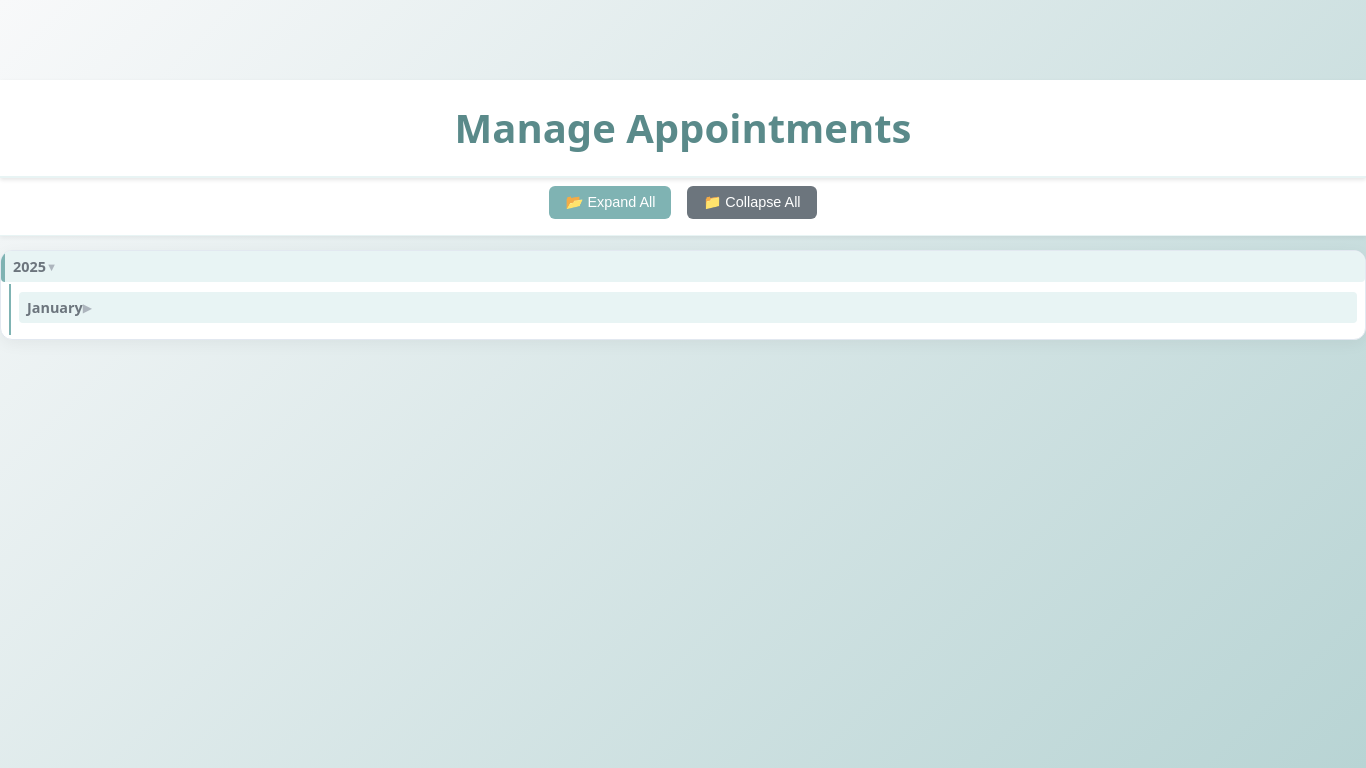
Scenario: Appointments responsive structure › renders table and mobile cards for expanded date with matching item counts
Click the button "📂 Expand All": [610, 202] box [549,186,671,219]
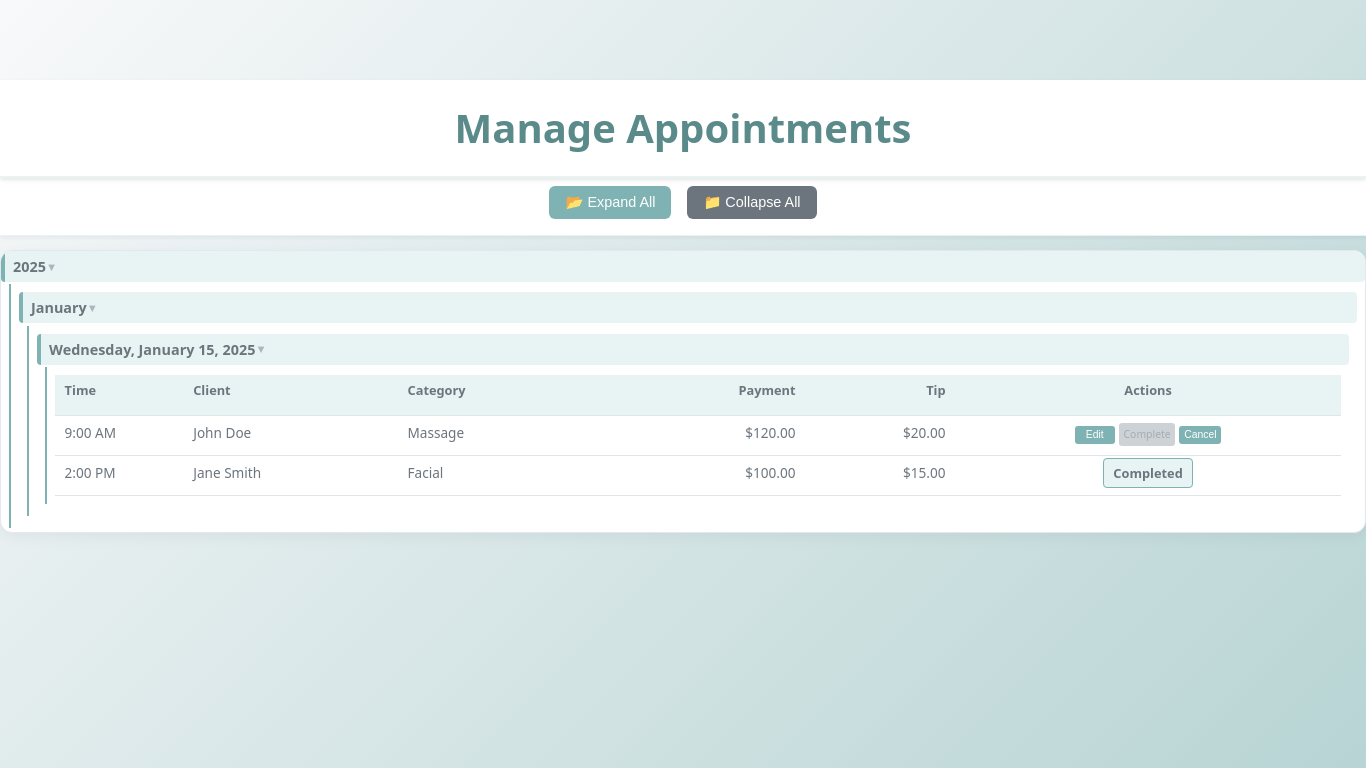
Result: the element with class "date-content" is shown at [45,367,1349,504]
Result: the table with class "table" is shown at [55,375,1341,496]
